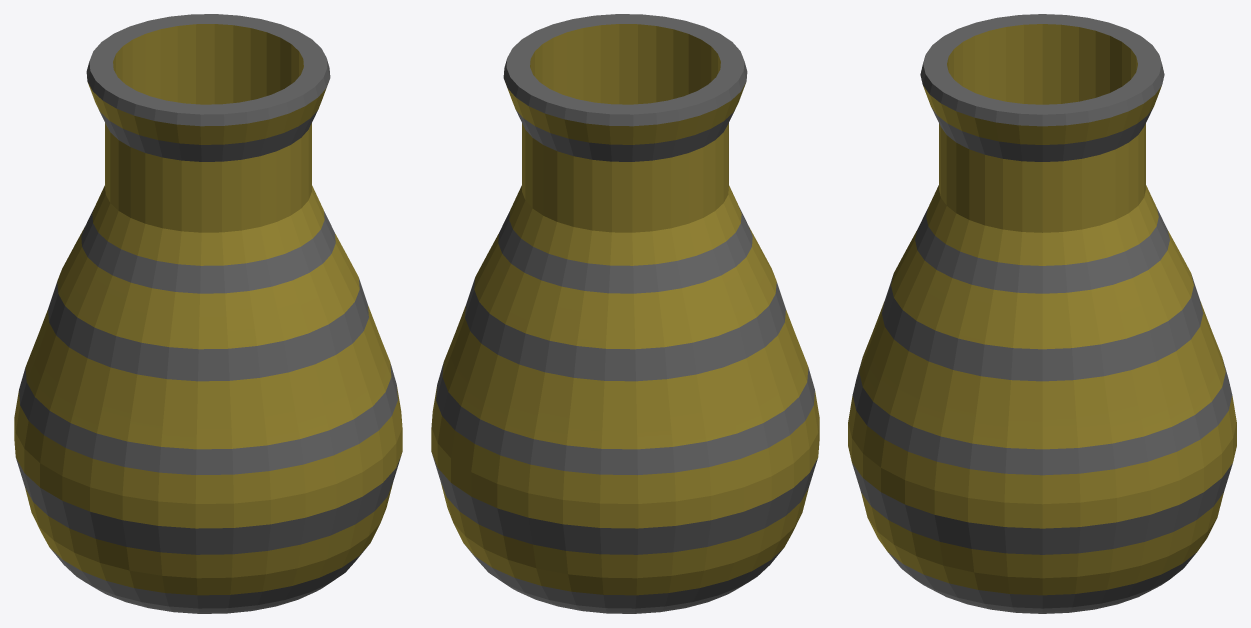
Rendered from VaseColored2fbx.fbx.
The picture shows the model from 3 angles, left to right: view 1: azimuth 30°, elevation 25°; view 2: azimuth 150°, elevation 25°; view 3: azimuth 270°, elevation 25°; orthographic projection.
Visible parts, largest first — view 1: Circle; view 2: Circle; view 3: Circle.
Part boxes in pixels (box(x1,y1,x2,y2)): Circle: box(14, 14, 402, 613); Circle: box(431, 14, 819, 613); Circle: box(848, 14, 1236, 613).
Bounding box in the file's own units: 286 × 400 × 286.
